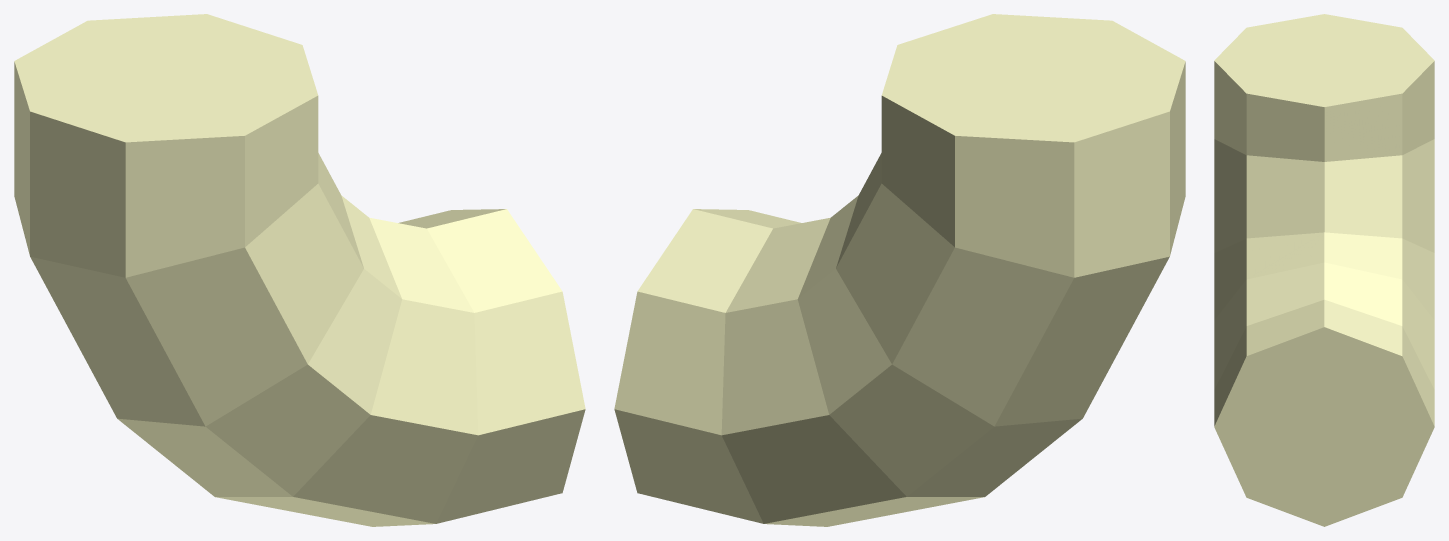
The model's file is Cave_Lair_Vegetation_Swamp_Mushroom_Stalk_Side_01.fbx.
3 views of the same model, side by side, from view 1: azimuth 30°, elevation 25°; view 2: azimuth 150°, elevation 25°; view 3: azimuth 270°, elevation 25° (orthographic). The views are drawn at different scales.
Visible parts, largest first — view 1: Cave_Lair_Vegetation_Swamp_Mushroom_Stalk_Side_01; view 2: Cave_Lair_Vegetation_Swamp_Mushroom_Stalk_Side_01; view 3: Cave_Lair_Vegetation_Swamp_Mushroom_Stalk_Side_01.
Boxes of the visible parts, x1,y1,x2,y2 form: Cave_Lair_Vegetation_Swamp_Mushroom_Stalk_Side_01: (14,14,585,526); Cave_Lair_Vegetation_Swamp_Mushroom_Stalk_Side_01: (614,14,1185,526); Cave_Lair_Vegetation_Swamp_Mushroom_Stalk_Side_01: (1214,14,1434,526).
Bounding box in the file's own units: 0.6074 × 0.6074 × 0.3471.
